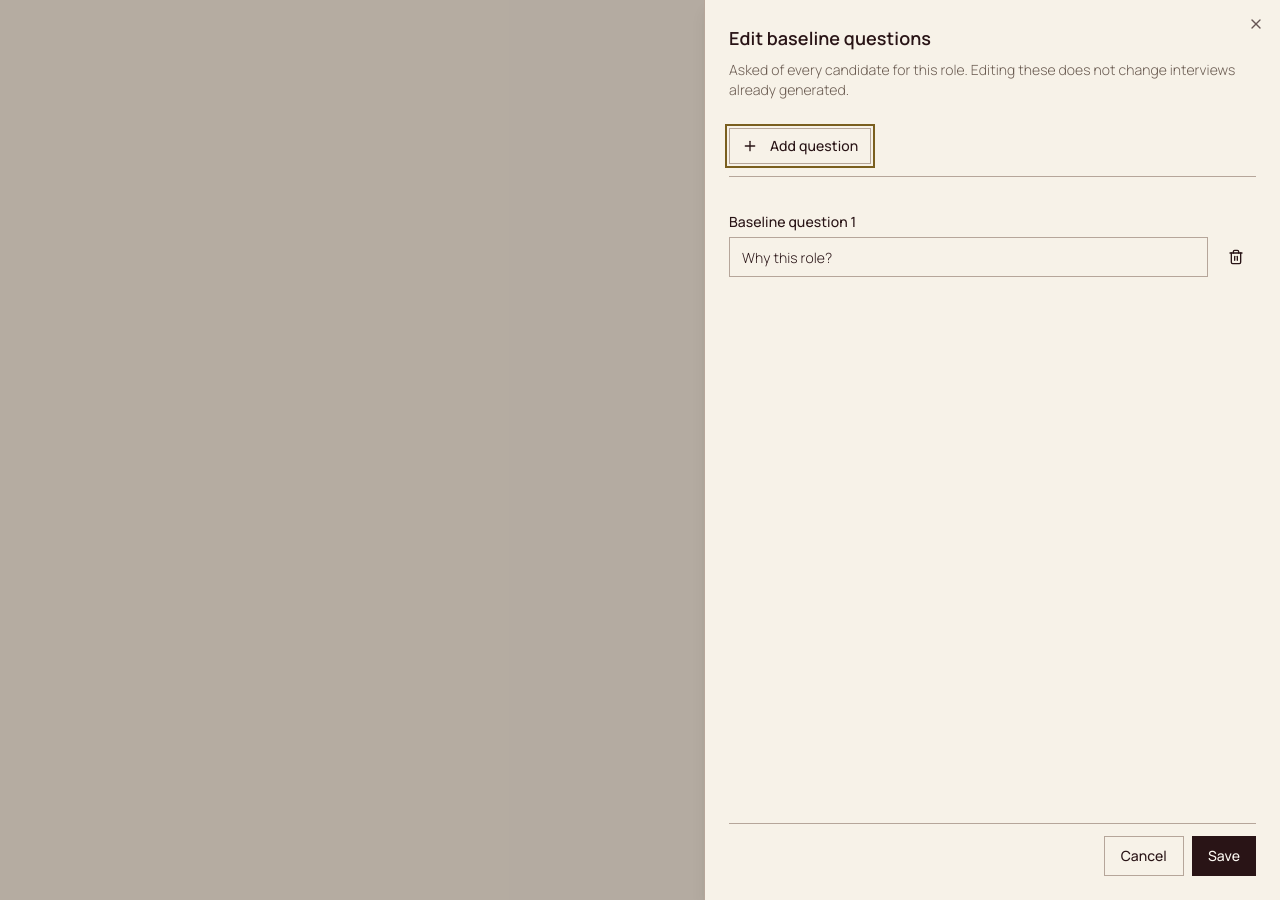
Test: EditInterviewBaselineSheet › gives each row's input and remove button a name keyed on its position
Expected: the field showing "Why this role?" is shown, [729,237,1208,277]
Click the button "Add question": click(800, 146) [729,128,871,164]
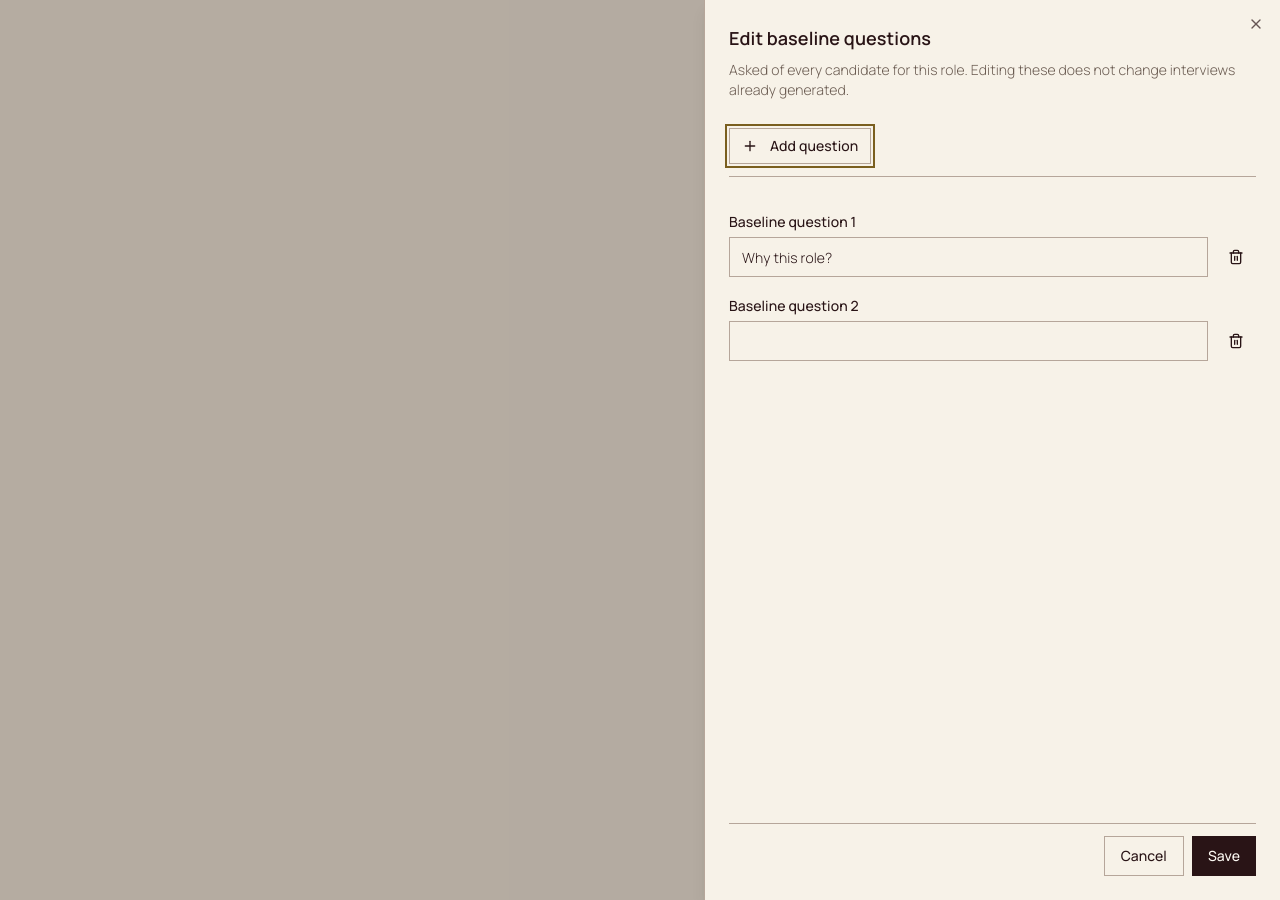
Click the button "Add question": click(800, 146) [729,128,871,164]
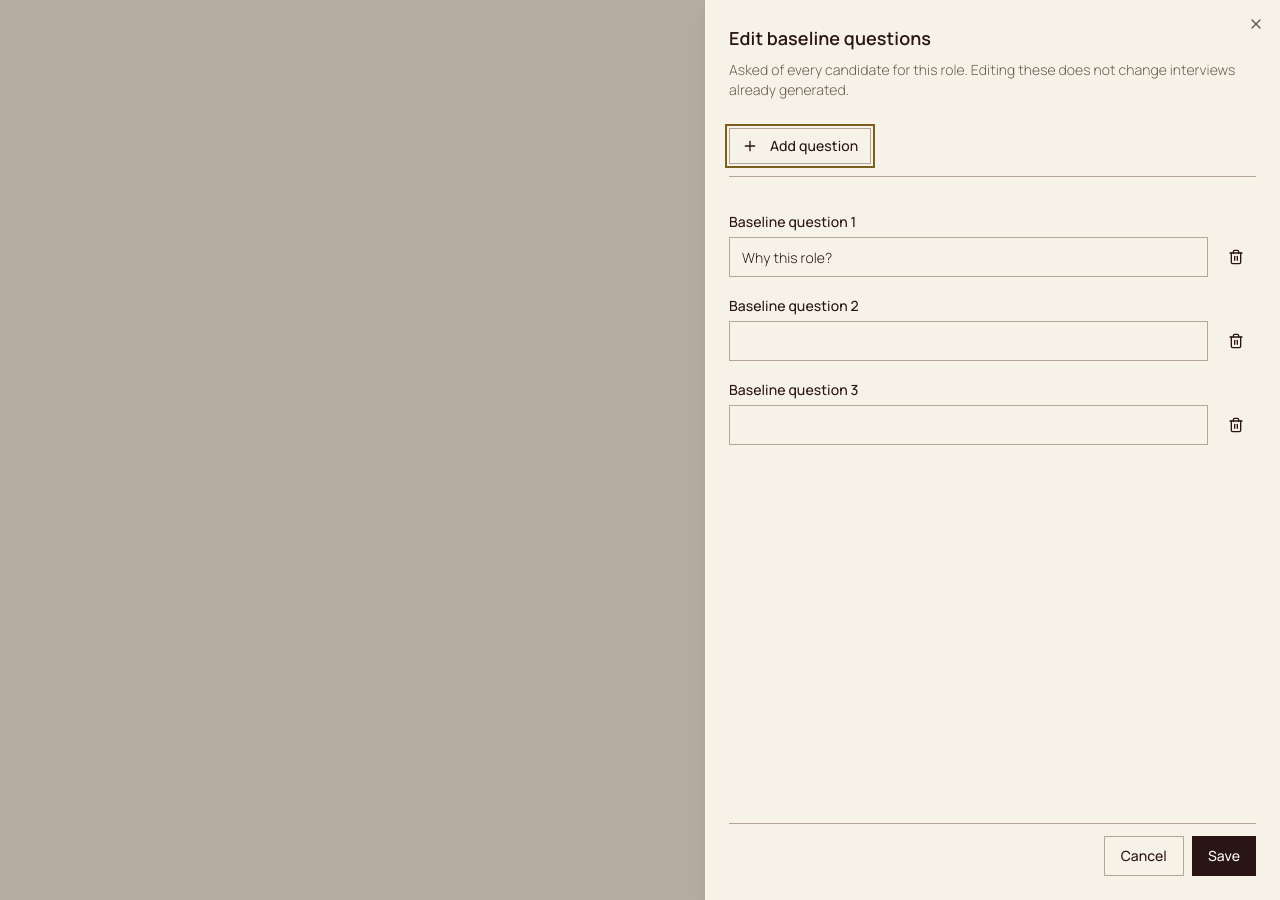
Expected: the field labelled "Baseline question 2" is shown, [729,321,1208,361]
Expected: the button named "Remove question 2" is shown, [1216,321,1256,361]
Expected: the field labelled "Baseline question 3" is shown, [729,405,1208,445]
